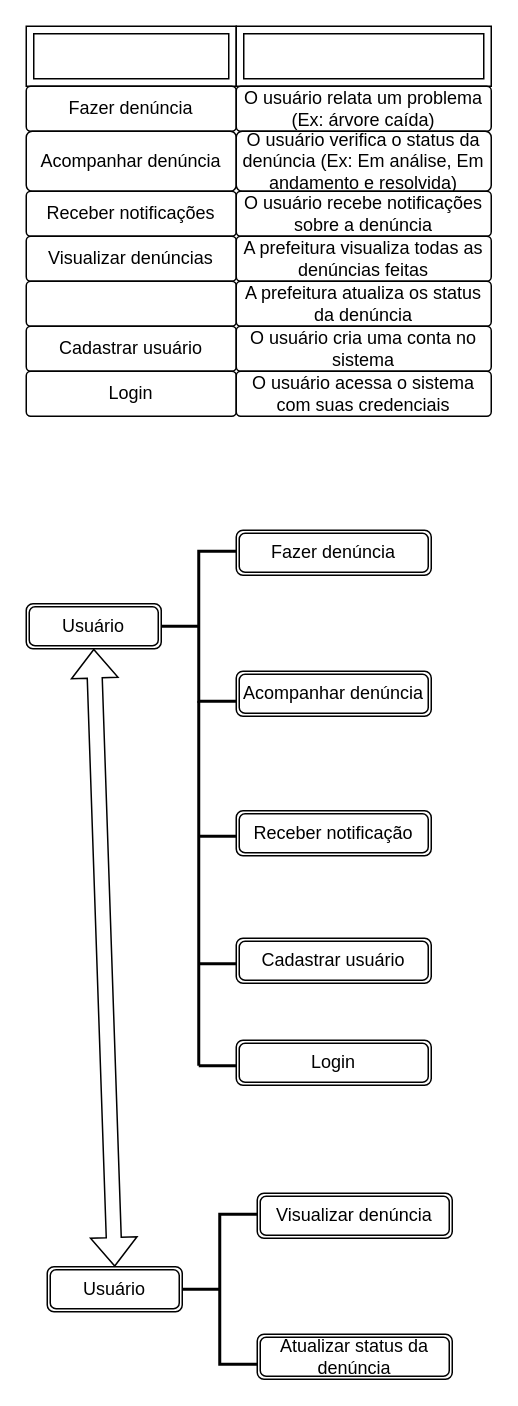
Some shapes in this 518 by 1406 pixel diagram are drawn without their labels. The shapes that lost their labels are listed below. From the top down, each one's centre as x and y in pixels, then its label:
At (130,55): "Casos de uso".
At (363,55): "Descrição".
At (130,303): "Atualizar status".
